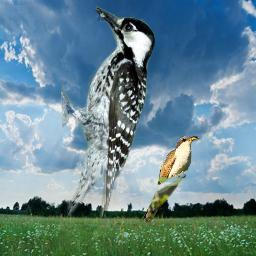Cuckoo: (141, 134, 200, 224)
Woodpecker: (61, 5, 155, 219)
